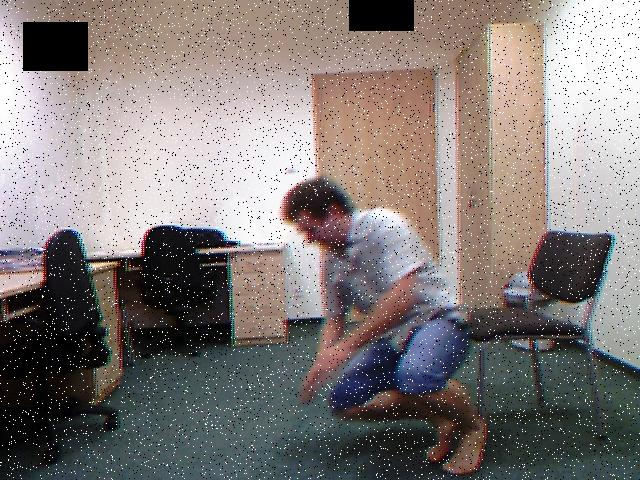near-fall: (268, 163, 504, 480)
